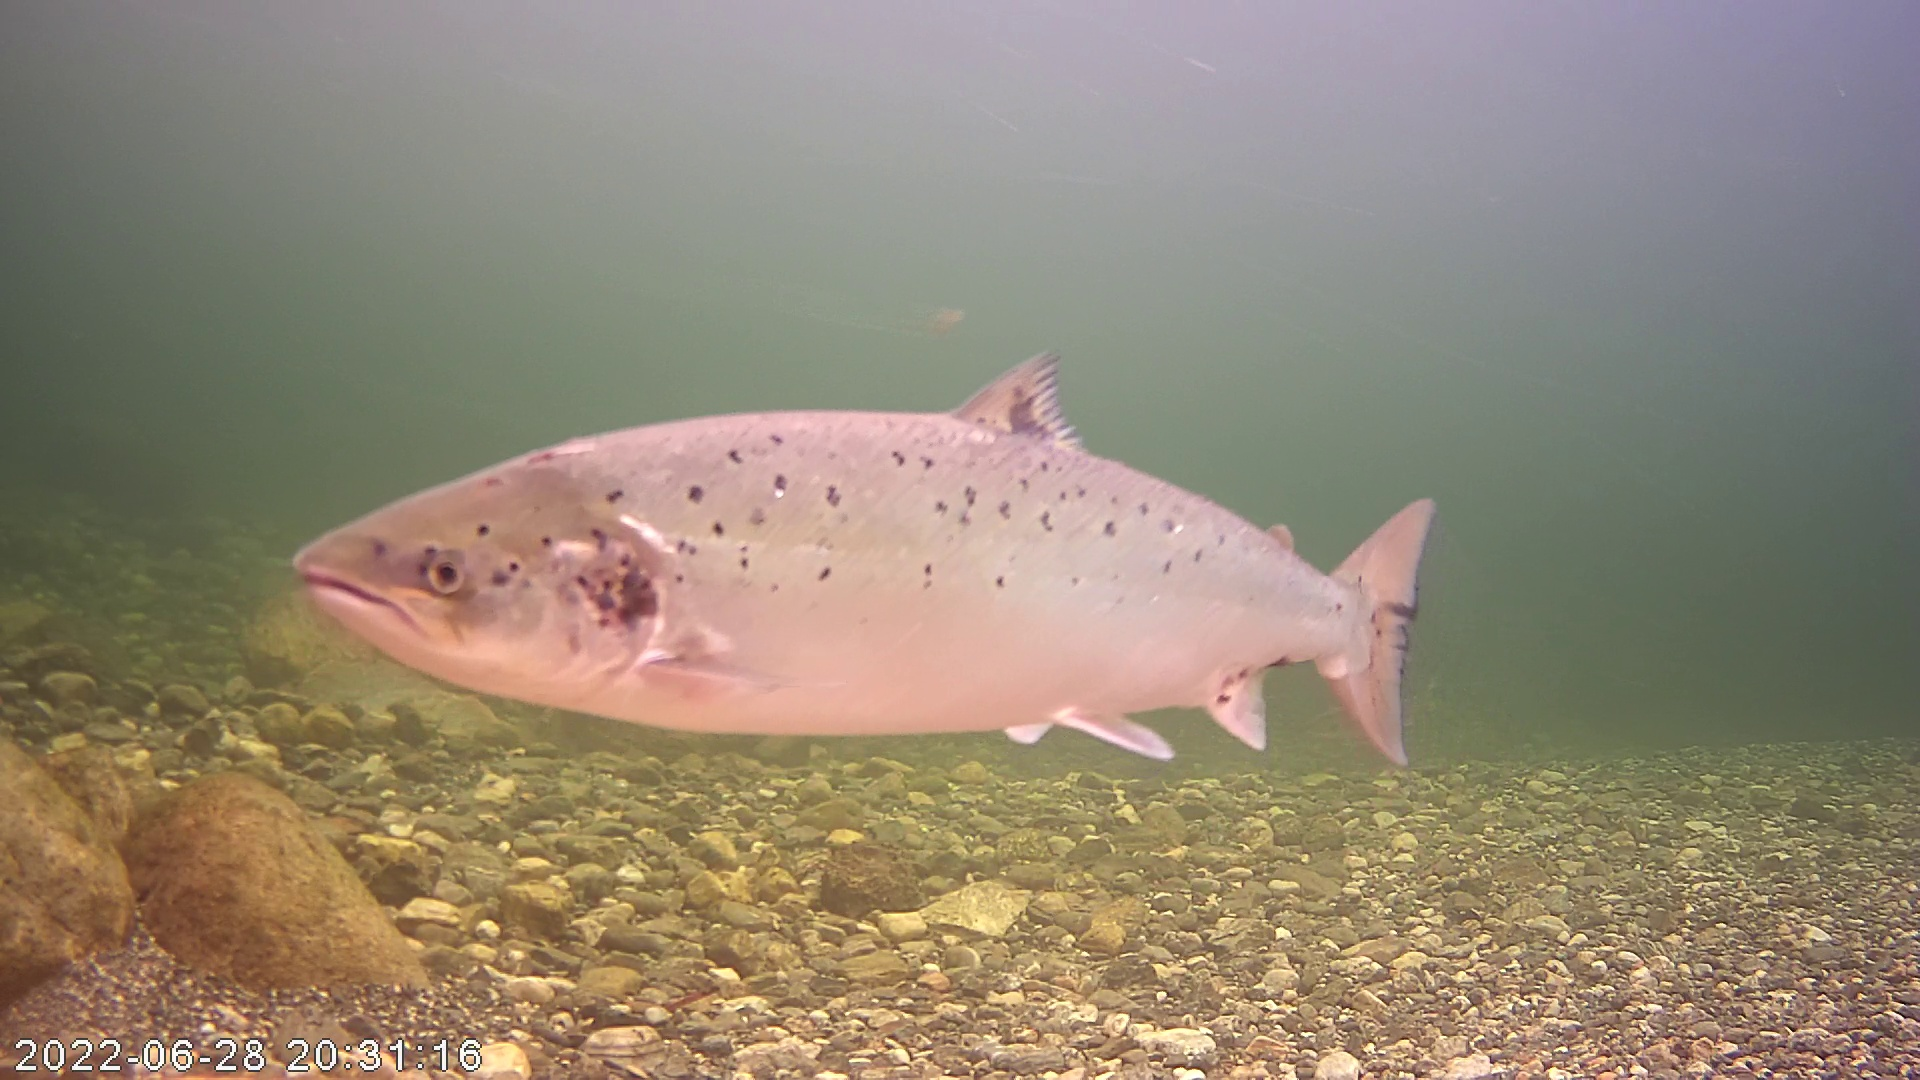salmon: (276, 277, 1400, 740)
